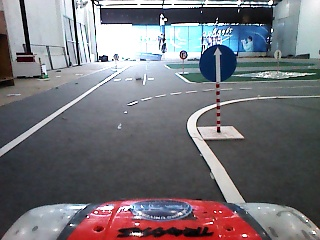straight: (199, 45, 237, 81)
